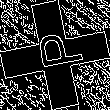P_W: (27, 32, 83, 78)
